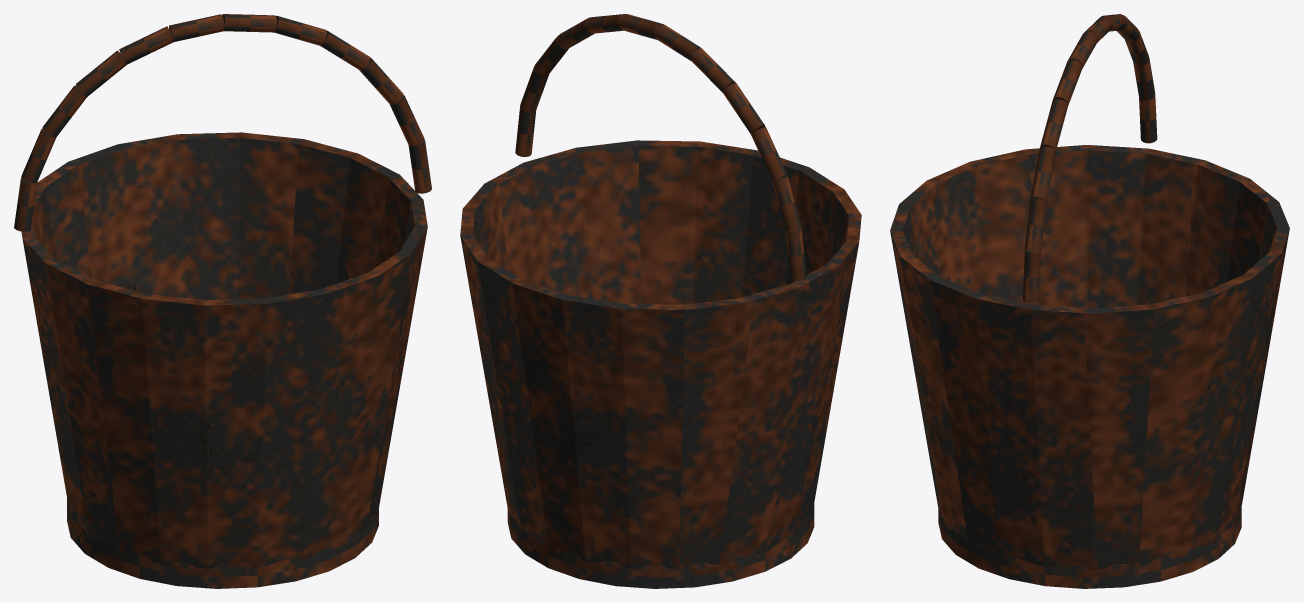
Rendered from SM_OpenMaintenanceBucket_aeb36301a9.fbx.
The picture shows the model from 3 angles, left to right: view 1: azimuth 30°, elevation 25°; view 2: azimuth 150°, elevation 25°; view 3: azimuth 270°, elevation 25°; orthographic projection. The views are drawn at different scales.
Visible parts, largest first — view 1: SM_OpenMaintenanceBucket_aeb36301a9; view 2: SM_OpenMaintenanceBucket_aeb36301a9; view 3: SM_OpenMaintenanceBucket_aeb36301a9.
Boxes of the visible parts, x1,y1,x2,y2 form: SM_OpenMaintenanceBucket_aeb36301a9: [14, 14, 431, 588]; SM_OpenMaintenanceBucket_aeb36301a9: [460, 14, 861, 588]; SM_OpenMaintenanceBucket_aeb36301a9: [890, 14, 1289, 588].
Size of what is drawn, in the model's own units: 37.99 by 37.99 by 51.79.
2 materials, 1 textured.
